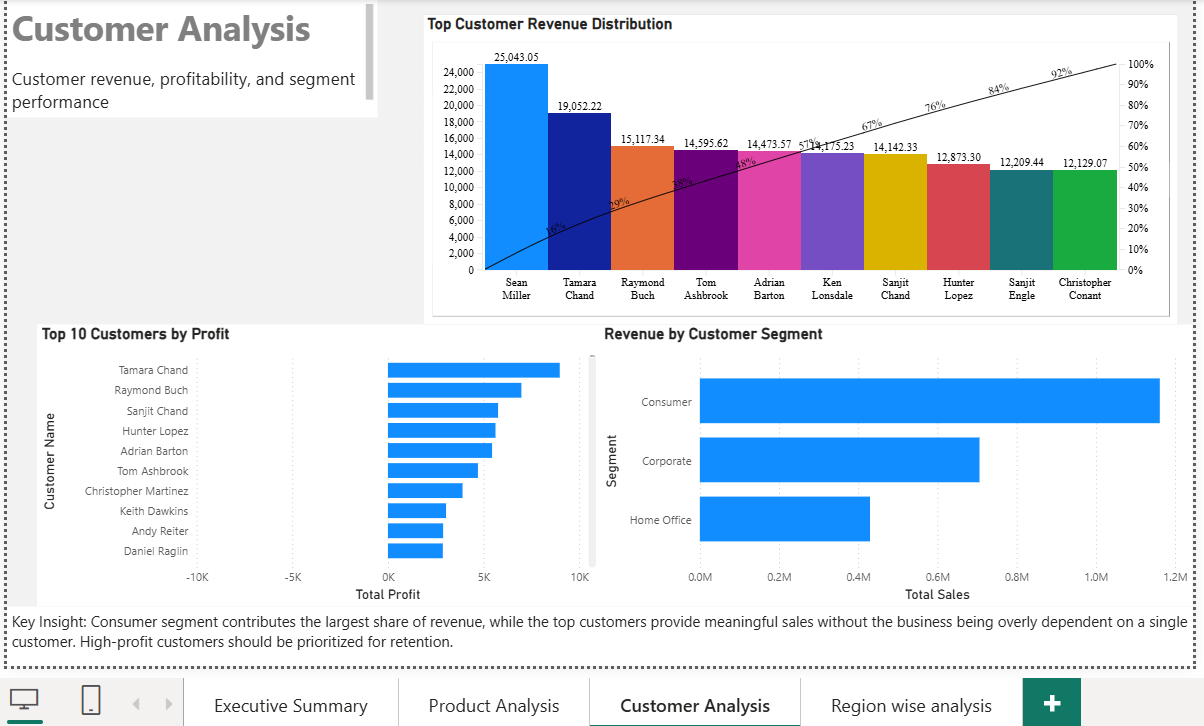

The dashboard page shown, as its layout file describes it:
{"tool":"powerbi","page":{"name":"Customer Analysis","canvas":[1280,720],"ordinal":2},"visuals":[{"type":"paretoplus2EFEC13210A14D3E82580687601DE984","title":"Top Customer Revenue Distribution","fields":{"values":["_Measures.Total Sales"],"categories":["DimCustomer.Customer Name"]},"box":[448,16,816,336],"z":0},{"type":"barChart","title":"Top 10 Customers by Profit","fields":{"Category":["DimCustomer.Customer Name"],"Y":["_Measures.Total Profit"]},"box":[32,352,608,304],"z":1000},{"type":"barChart","title":"Revenue by Customer Segment","fields":{"Y":["_Measures.Total Sales"],"Category":["DimCustomer.Segment"]},"box":[640,352,640,304],"z":2000},{"type":"textbox","box":[0,0,400,128],"z":3000},{"type":"textbox","box":[0,656,1280,64],"z":3001}]}

Visuals, with their boxes on the page's 1280x720 design canvas (x1, y1, x2, y2). These are canvas units, not pixel positions in the 1204x726 screenshot, which may show the page scaled, cropped or inside an application window:
"Top Customer Revenue Distribution" paretoplus2EFEC13210A14D3E82580687601DE984: select_region(448, 16, 1264, 352)
"Top 10 Customers by Profit" barChart: select_region(32, 352, 640, 656)
"Revenue by Customer Segment" barChart: select_region(640, 352, 1280, 656)
textbox: select_region(0, 0, 400, 128)
textbox: select_region(0, 656, 1280, 720)
